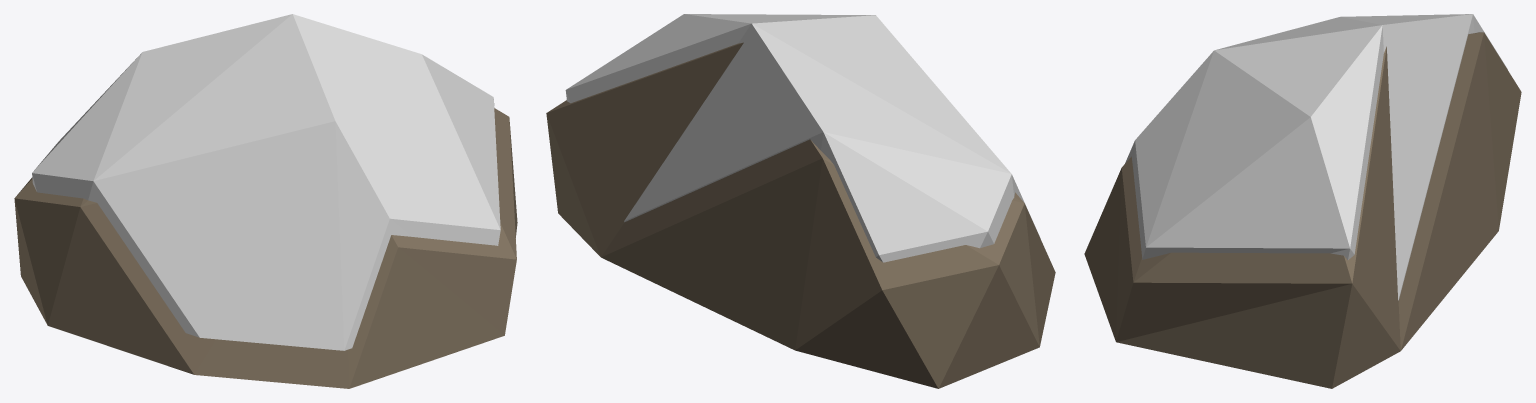
File: Stone_1_snow_brown_mat.fbx
The picture shows the model from 3 angles, left to right: view 1: azimuth 30°, elevation 25°; view 2: azimuth 150°, elevation 25°; view 3: azimuth 270°, elevation 25°; orthographic projection. The views are drawn at different scales.
Visible parts, largest first — view 1: Stone_1_snow_brown_mat; view 2: Stone_1_snow_brown_mat; view 3: Stone_1_snow_brown_mat.
Part boxes in pixels (bbox=[...]): Stone_1_snow_brown_mat: bbox=[14, 14, 517, 388]; Stone_1_snow_brown_mat: bbox=[546, 14, 1055, 388]; Stone_1_snow_brown_mat: bbox=[1084, 14, 1521, 388].
Size of the model in its own units: 51.15 by 27.07 by 39.42.
